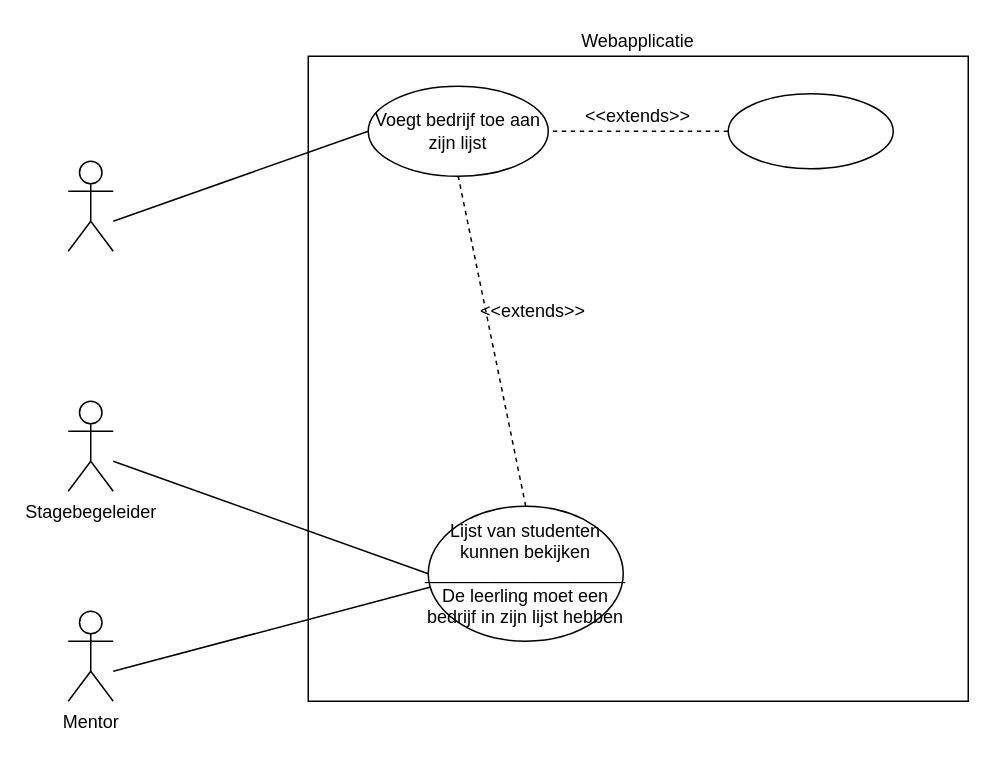
Some shapes in this 995 by 758 pixel diagram are drawn without their labels. Each missing label, with the centre of its shape:
Student: (90,205)
Ziet bedrijf waar hij wil stage lopen: (810,130)
